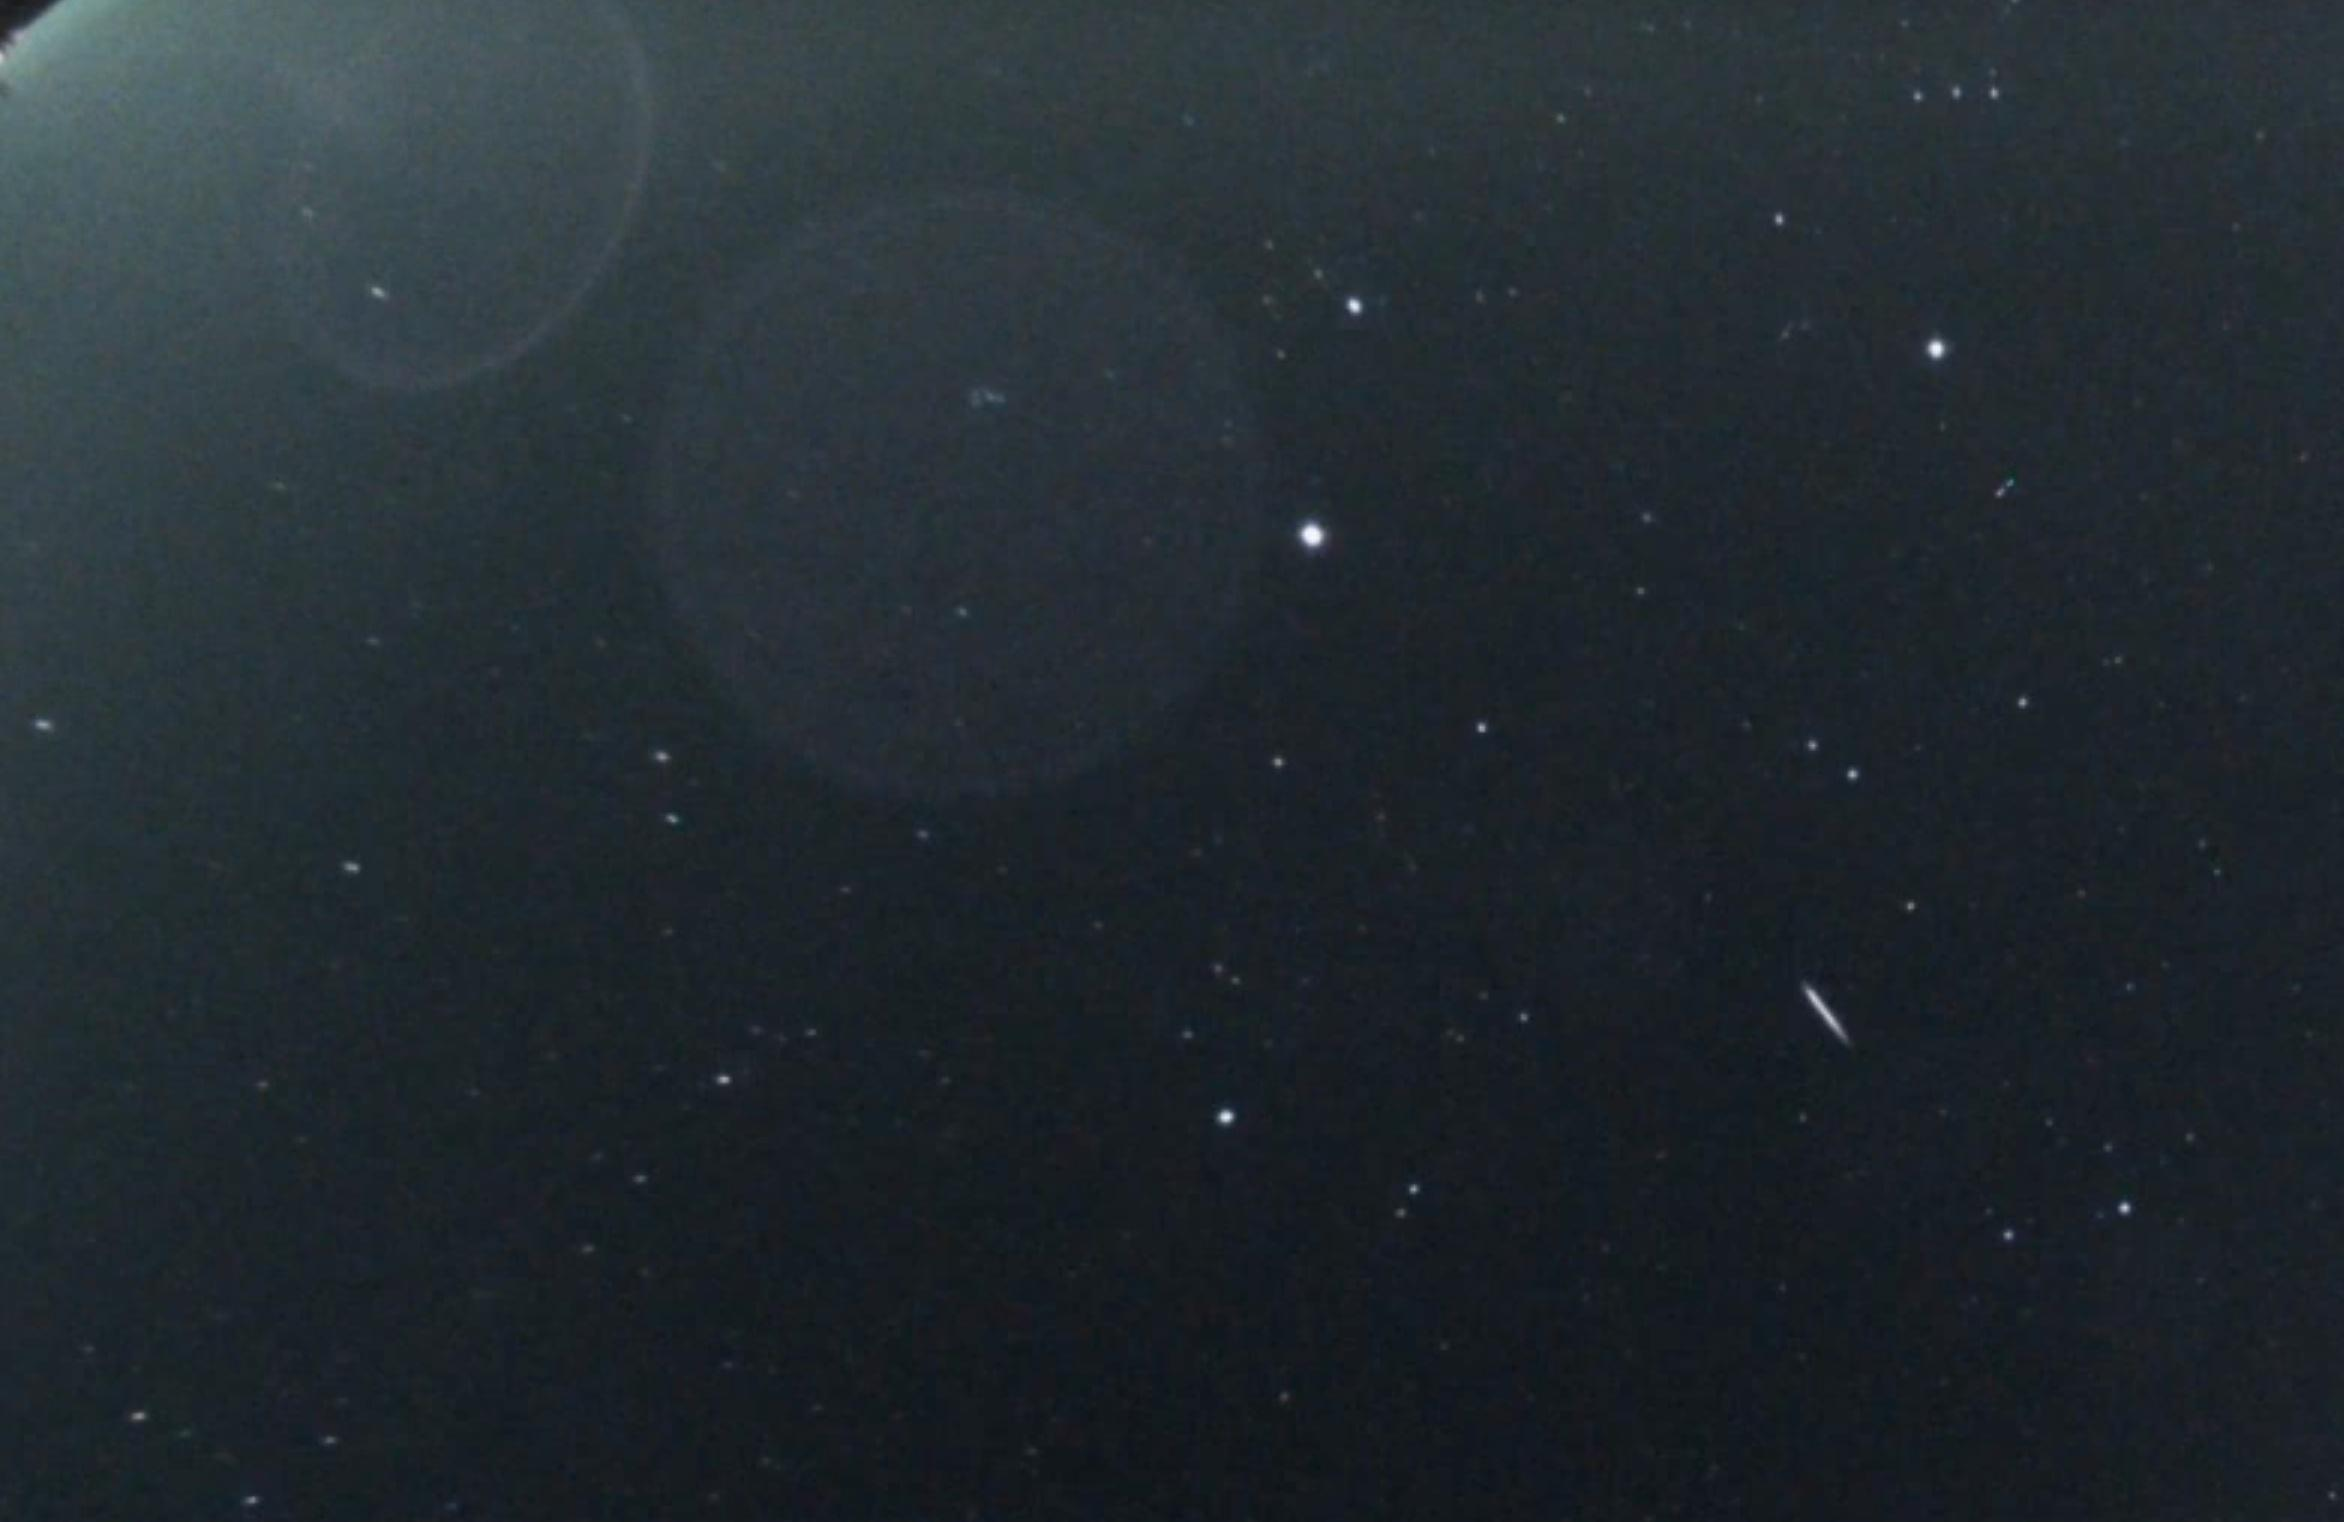Plane: (1977, 466, 2038, 507)
meteorite: (1758, 950, 1884, 1073)
